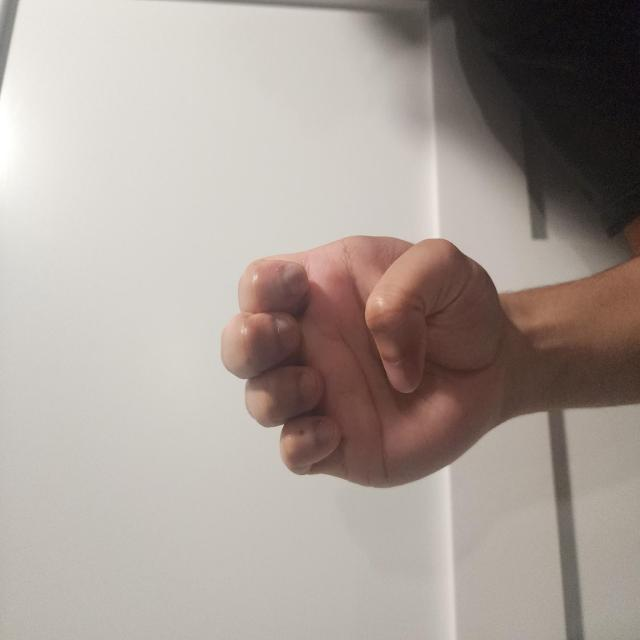E: (108, 288, 309, 640)
